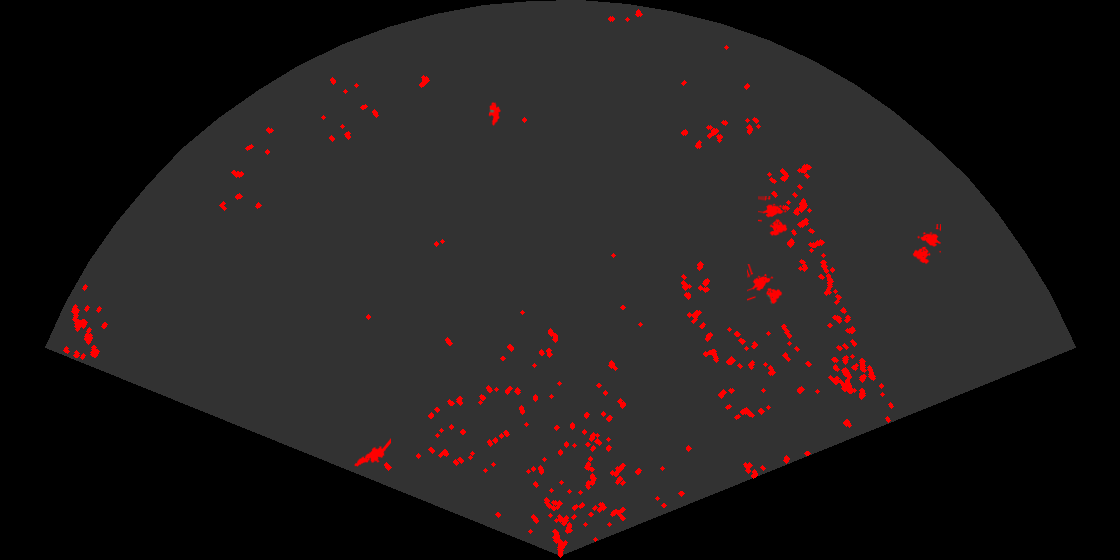AUV: (487, 100, 502, 128)
cage: (747, 264, 784, 305), (758, 196, 789, 238), (911, 224, 941, 266)
frogman: (353, 438, 391, 468)
